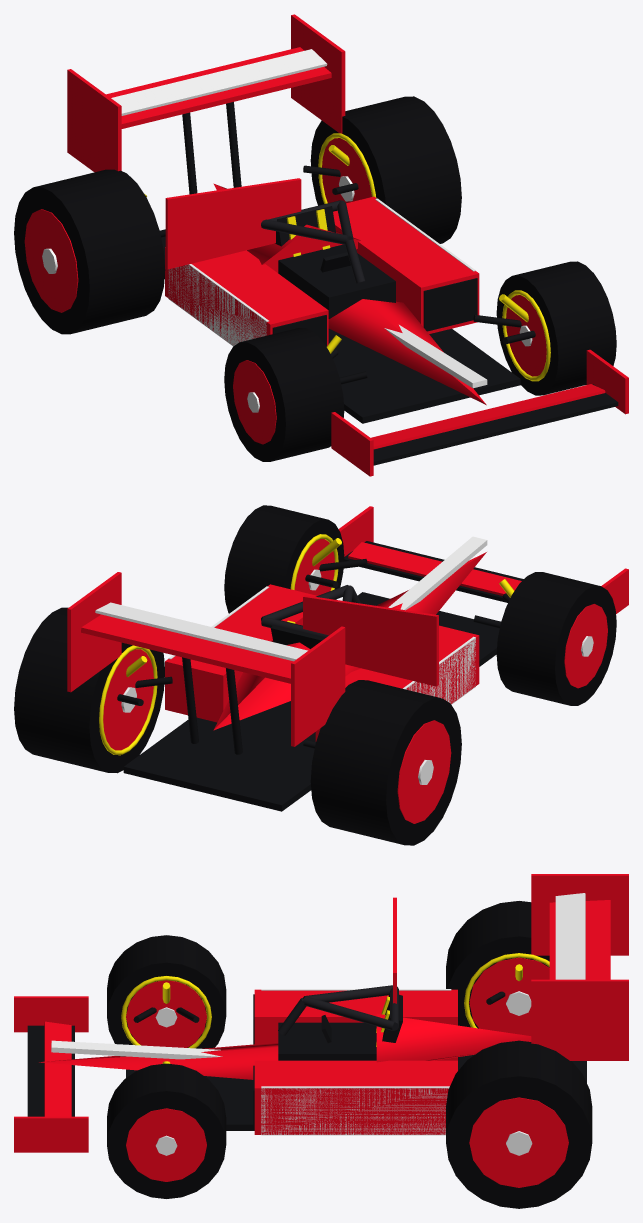
The model's file is f1_bright_red_buggy_v1.glb.
The picture shows the model from 3 angles, top to bottom: view 1: azimuth 30°, elevation 25°; view 2: azimuth 150°, elevation 25°; view 3: azimuth 270°, elevation 25°; orthographic projection. The views are drawn at different scales.
Visible parts, largest first — view 1: F1_Bright_Red_Buggy; view 2: F1_Bright_Red_Buggy; view 3: F1_Bright_Red_Buggy.
Boxes of the visible parts, bbox=[...] form: F1_Bright_Red_Buggy: bbox=[14, 14, 628, 476]; F1_Bright_Red_Buggy: bbox=[14, 505, 628, 845]; F1_Bright_Red_Buggy: bbox=[14, 874, 628, 1208].
Size of the model in its own units: 3.11 by 1.58 by 4.54.
